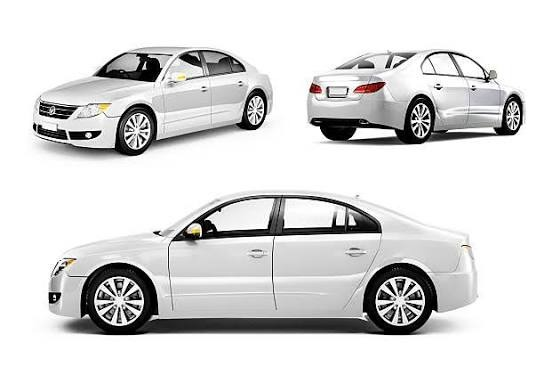car: (47, 194, 481, 335), (36, 46, 281, 154), (307, 44, 522, 142)
